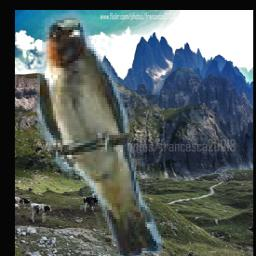Swallow: (37, 10, 164, 256)
